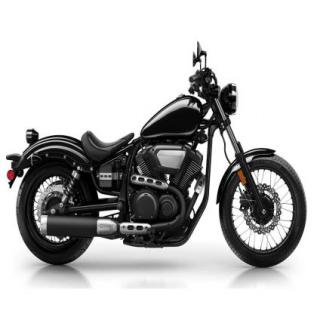Motocicleta: (5, 34, 314, 272)
